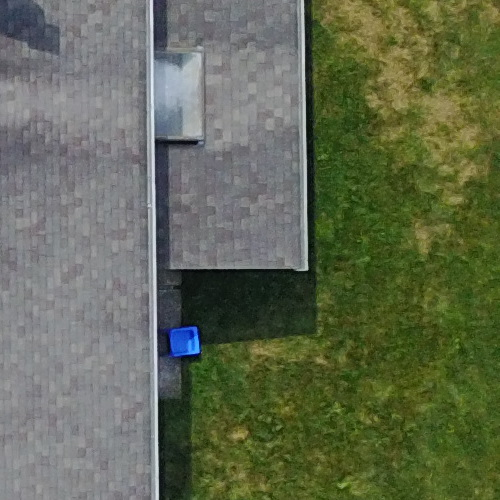container: (166, 321, 207, 366)
